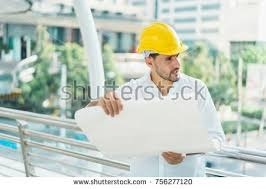helmet: (136, 22, 189, 56)
person with partial safety: (107, 20, 212, 106)
